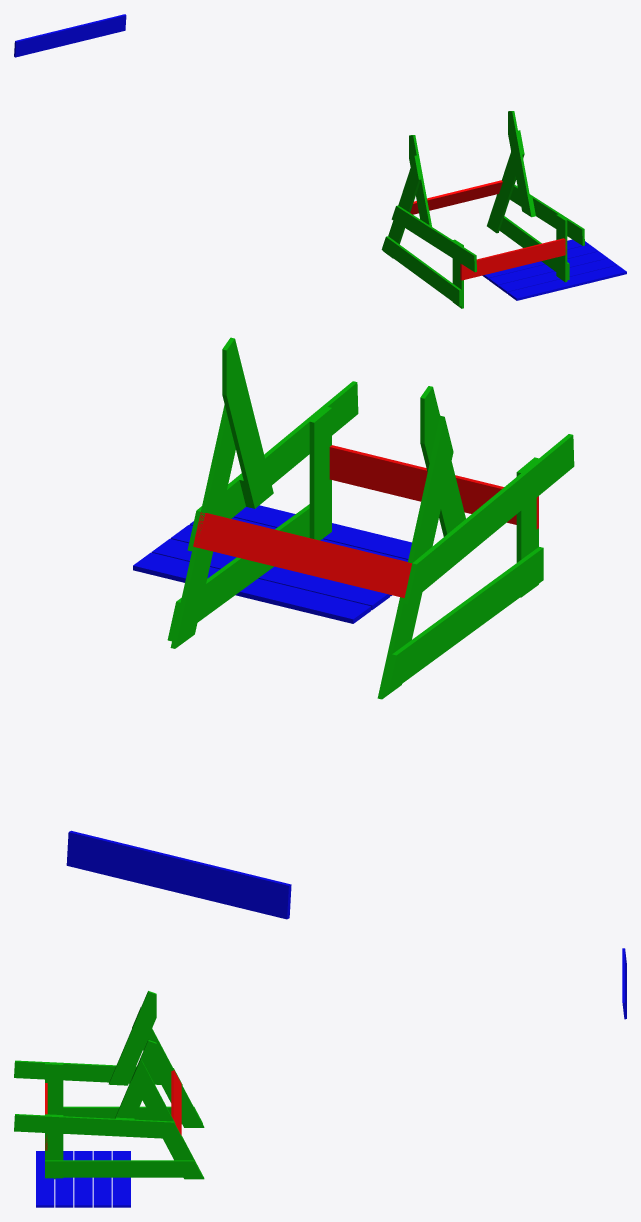
The model's file is result.glb.
3 views of the same model, one above another, from view 1: azimuth 30°, elevation 25°; view 2: azimuth 150°, elevation 25°; view 3: azimuth 270°, elevation 25° (orthographic). The views are drawn at different scales.
Parts seen in each view (by area): view 1: c2c008eb-2092-4a9b-8ae8-76da80204431__Box_8, 484881f4-eda3-4f96-ad82-69b4ddf5d18c__Plane_1, 3acc6f63-ff41-40b3-9f09-f21a8754470c__undefined, ff2cbf46-3685-4258-9752-ddde5cffae6d__undefined, 9a8ef272-4b11-4695-8003-7989517d61ae__undefined (×2), 73007fc1-9d02-4312-9086-d1aafefa6c8b__Box_5, 0cbf59ea-395f-4c1d-9fa5-b1e726250eeb__undefined, 7b3b81fc-09a6-4aff-9626-8430ceb05550__Plane_2, 7ce02bd1-7ed6-4ede-a123-560d70a960fd__Box_1, 84fce21a-c268-4f73-82f2-692af0f58cb1__undefined, fa165e71-c26b-45ad-a13c-3ede7de17206__Box_2, 203f38a4-200c-4d57-a0c4-ac20528a29a9__undefined (+4 smaller); view 2: c2c008eb-2092-4a9b-8ae8-76da80204431__Box_8, 7b3b81fc-09a6-4aff-9626-8430ceb05550__Plane_2, 9a8ef272-4b11-4695-8003-7989517d61ae__undefined (×2), 3acc6f63-ff41-40b3-9f09-f21a8754470c__undefined, ff2cbf46-3685-4258-9752-ddde5cffae6d__undefined, 484881f4-eda3-4f96-ad82-69b4ddf5d18c__Plane_1, 203f38a4-200c-4d57-a0c4-ac20528a29a9__undefined, 0cbf59ea-395f-4c1d-9fa5-b1e726250eeb__undefined, 2d4692a2-67a3-4e5f-923e-7cb714657c11__Box_4, 84fce21a-c268-4f73-82f2-692af0f58cb1__undefined, 4954cca8-97c8-4063-987c-666e53304fb0__Plane, 2ae20307-60aa-4aaf-8c66-ed9aef401f3b__Box_3 (+4 smaller); view 3: 84fce21a-c268-4f73-82f2-692af0f58cb1__undefined, 4954cca8-97c8-4063-987c-666e53304fb0__Plane, 9a8ef272-4b11-4695-8003-7989517d61ae__undefined (×2), c24dbbcc-0d8a-4c23-b858-edd56e9750e6__undefined, 3acc6f63-ff41-40b3-9f09-f21a8754470c__undefined, 203f38a4-200c-4d57-a0c4-ac20528a29a9__undefined, 0cbf59ea-395f-4c1d-9fa5-b1e726250eeb__undefined, ac3fb459-d3f3-4d7d-9430-f1db39883110__undefined, ff2cbf46-3685-4258-9752-ddde5cffae6d__undefined, 73007fc1-9d02-4312-9086-d1aafefa6c8b__Box_5, fa165e71-c26b-45ad-a13c-3ede7de17206__Box_2, 2ae20307-60aa-4aaf-8c66-ed9aef401f3b__Box_3 (+4 smaller).
Boxes of the visible parts, x1=… form: c2c008eb-2092-4a9b-8ae8-76da80204431__Box_8: x1=14, y1=14, x2=126, y2=57; 484881f4-eda3-4f96-ad82-69b4ddf5d18c__Plane_1: x1=460, y1=238, x2=566, y2=280; 3acc6f63-ff41-40b3-9f09-f21a8754470c__undefined: x1=391, y1=205, x2=476, y2=272; ff2cbf46-3685-4258-9752-ddde5cffae6d__undefined: x1=381, y1=236, x2=461, y2=306; 9a8ef272-4b11-4695-8003-7989517d61ae__undefined (×2): x1=487, y1=130, x2=524, y2=233; 73007fc1-9d02-4312-9086-d1aafefa6c8b__Box_5: x1=508, y1=265, x2=626, y2=300; 0cbf59ea-395f-4c1d-9fa5-b1e726250eeb__undefined: x1=508, y1=111, x2=533, y2=217; 7b3b81fc-09a6-4aff-9626-8430ceb05550__Plane_2: x1=410, y1=180, x2=502, y2=214; 7ce02bd1-7ed6-4ede-a123-560d70a960fd__Box_1: x1=498, y1=258, x2=617, y2=293; 84fce21a-c268-4f73-82f2-692af0f58cb1__undefined: x1=510, y1=185, x2=584, y2=245; fa165e71-c26b-45ad-a13c-3ede7de17206__Box_2: x1=489, y1=251, x2=607, y2=286; 203f38a4-200c-4d57-a0c4-ac20528a29a9__undefined: x1=383, y1=155, x2=420, y2=258; c2c008eb-2092-4a9b-8ae8-76da80204431__Box_8: x1=66, y1=830, x2=291, y2=919; 7b3b81fc-09a6-4aff-9626-8430ceb05550__Plane_2: x1=193, y1=512, x2=411, y2=598; 9a8ef272-4b11-4695-8003-7989517d61ae__undefined (×2): x1=170, y1=405, x2=235, y2=648; 3acc6f63-ff41-40b3-9f09-f21a8754470c__undefined: x1=403, y1=434, x2=574, y2=603; ff2cbf46-3685-4258-9752-ddde5cffae6d__undefined: x1=383, y1=547, x2=543, y2=693; 484881f4-eda3-4f96-ad82-69b4ddf5d18c__Plane_1: x1=329, y1=445, x2=538, y2=529; 203f38a4-200c-4d57-a0c4-ac20528a29a9__undefined: x1=377, y1=415, x2=453, y2=699; 0cbf59ea-395f-4c1d-9fa5-b1e726250eeb__undefined: x1=222, y1=337, x2=273, y2=508; 2d4692a2-67a3-4e5f-923e-7cb714657c11__Box_4: x1=133, y1=552, x2=371, y2=623; 84fce21a-c268-4f73-82f2-692af0f58cb1__undefined: x1=187, y1=381, x2=358, y2=551; 4954cca8-97c8-4063-987c-666e53304fb0__Plane: x1=167, y1=504, x2=309, y2=641; 2ae20307-60aa-4aaf-8c66-ed9aef401f3b__Box_3: x1=151, y1=539, x2=389, y2=609; 84fce21a-c268-4f73-82f2-692af0f58cb1__undefined: x1=14, y1=1114, x2=182, y2=1139; 4954cca8-97c8-4063-987c-666e53304fb0__Plane: x1=45, y1=1160, x2=202, y2=1177; 9a8ef272-4b11-4695-8003-7989517d61ae__undefined (×2): x1=132, y1=1058, x2=204, y2=1179; c24dbbcc-0d8a-4c23-b858-edd56e9750e6__undefined: x1=108, y1=991, x2=156, y2=1085; 3acc6f63-ff41-40b3-9f09-f21a8754470c__undefined: x1=14, y1=1060, x2=182, y2=1085; 203f38a4-200c-4d57-a0c4-ac20528a29a9__undefined: x1=132, y1=1007, x2=204, y2=1127; 0cbf59ea-395f-4c1d-9fa5-b1e726250eeb__undefined: x1=115, y1=1040, x2=156, y2=1118; ac3fb459-d3f3-4d7d-9430-f1db39883110__undefined: x1=45, y1=1063, x2=63, y2=1114; ff2cbf46-3685-4258-9752-ddde5cffae6d__undefined: x1=63, y1=1106, x2=202, y2=1123; 73007fc1-9d02-4312-9086-d1aafefa6c8b__Box_5: x1=36, y1=1151, x2=54, y2=1207; fa165e71-c26b-45ad-a13c-3ede7de17206__Box_2: x1=74, y1=1151, x2=92, y2=1207; 2ae20307-60aa-4aaf-8c66-ed9aef401f3b__Box_3: x1=93, y1=1151, x2=111, y2=1207.
Bounding box in the file's own units: 1868 × 758 × 3040.
